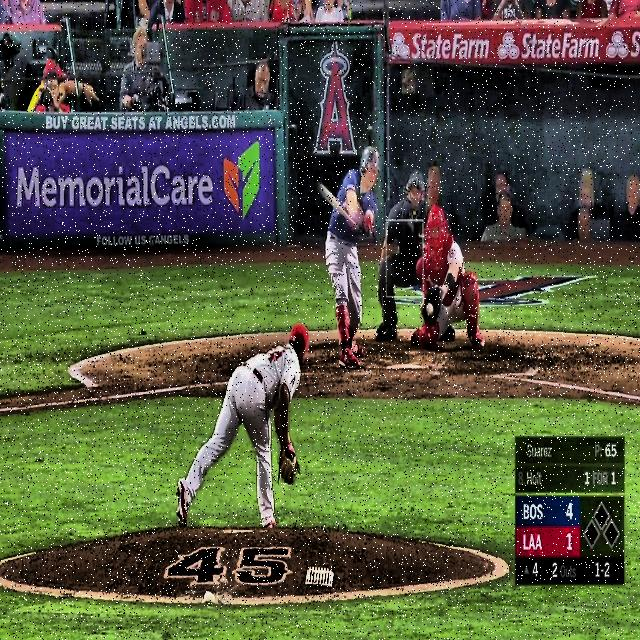baseball: (426, 302, 434, 316)
